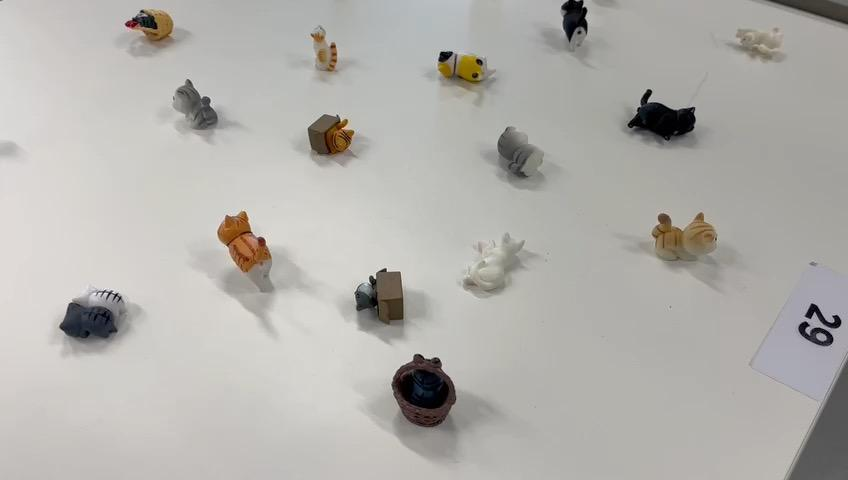pet: (193, 196, 299, 303), (61, 258, 145, 356), (463, 211, 542, 311), (483, 108, 561, 200), (641, 206, 751, 270), (386, 356, 472, 435), (626, 83, 711, 162), (173, 81, 255, 155), (341, 251, 416, 327), (308, 108, 373, 185), (433, 33, 501, 103), (293, 11, 355, 84), (726, 8, 798, 68), (543, 1, 616, 59), (118, 8, 195, 53)
